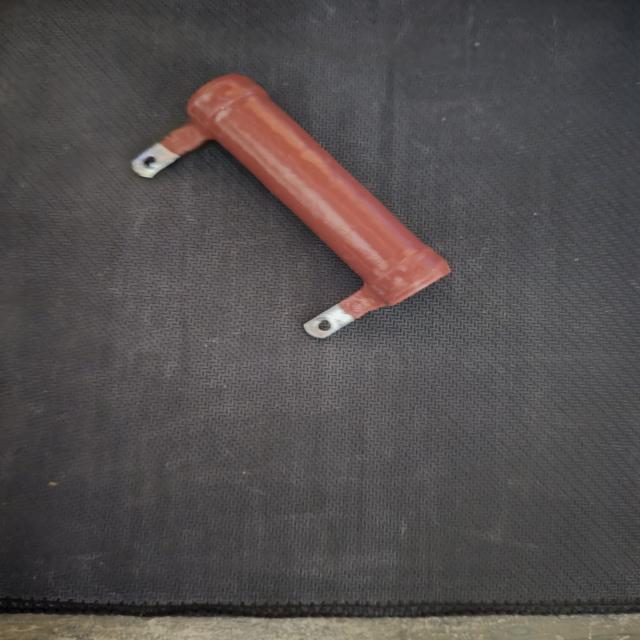resistor: (112, 63, 466, 348)
